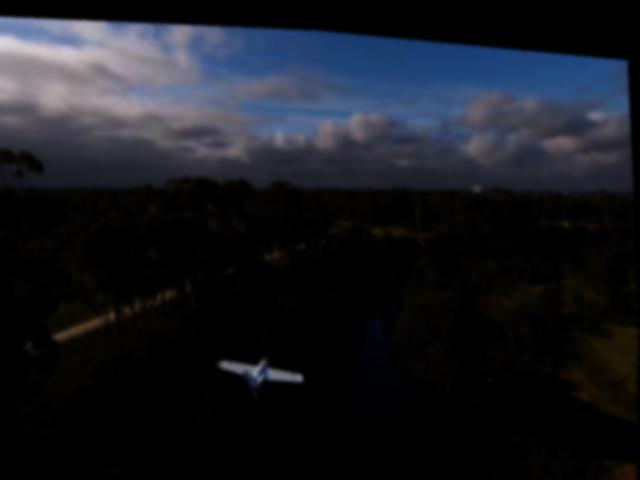uav: (217, 339, 308, 404)
